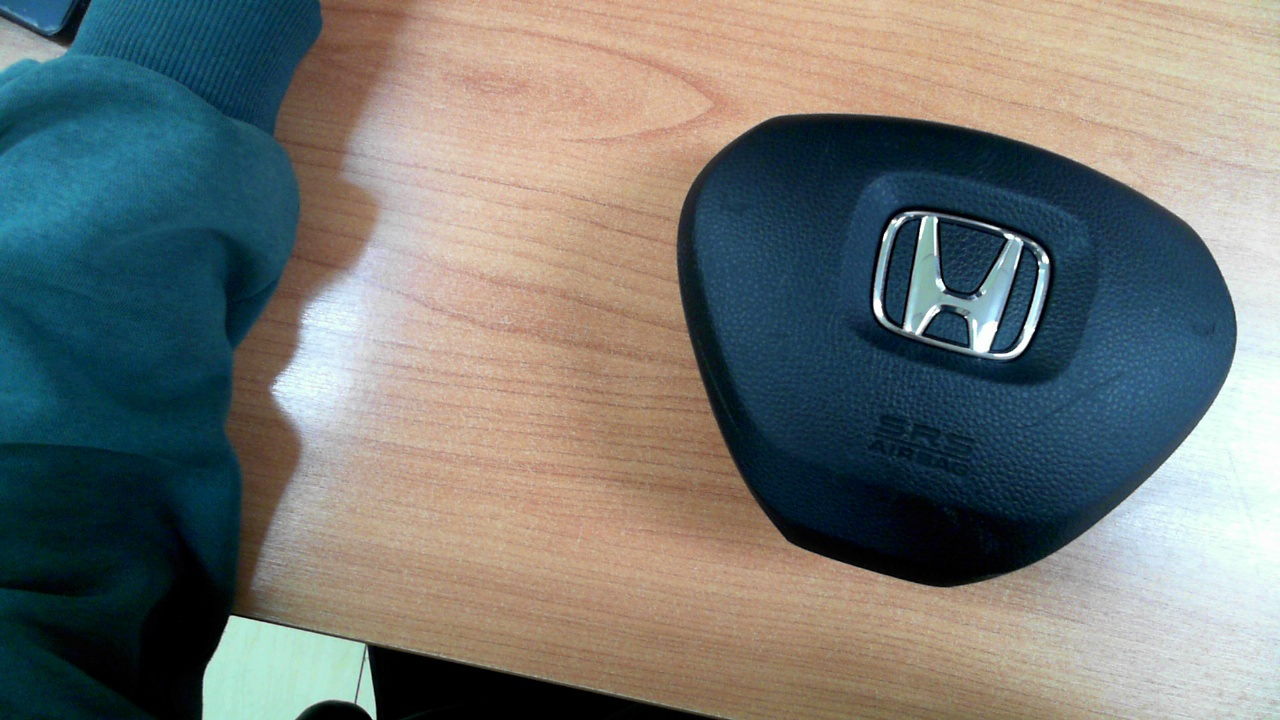Airbag: (640, 116, 1258, 592)
Honda: (872, 211, 1050, 360)
